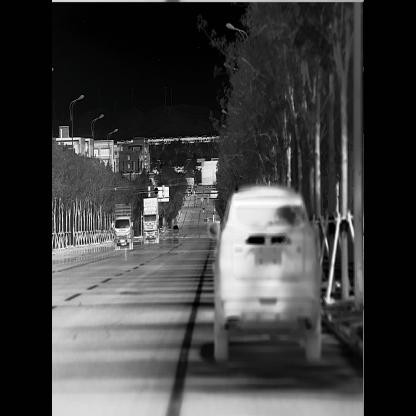car: (206, 186, 322, 362), (172, 224, 179, 234), (214, 217, 220, 223), (204, 216, 210, 222), (188, 186, 191, 196), (194, 183, 197, 191), (202, 206, 205, 212)
truck: (113, 203, 134, 249), (143, 197, 159, 242)
